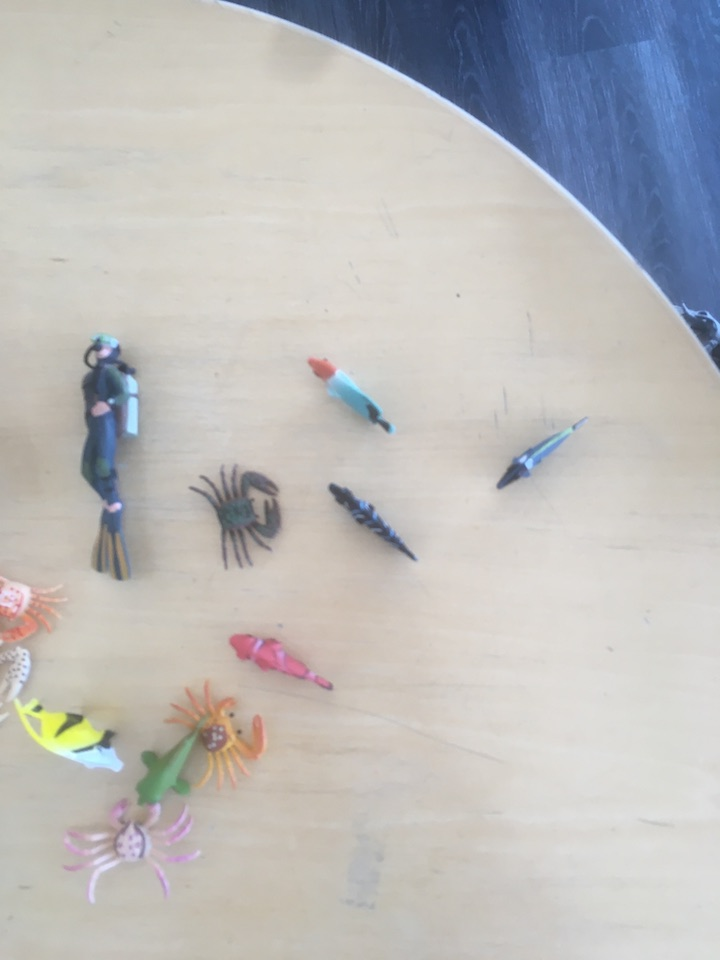crab: (59, 794, 205, 905), (158, 674, 271, 795), (184, 459, 286, 571), (1, 571, 72, 649), (1, 636, 36, 729)
danger: (9, 690, 130, 782)
diver: (71, 326, 149, 584)
fish: (322, 479, 428, 568), (130, 708, 217, 812), (490, 411, 593, 495), (302, 350, 397, 440), (222, 629, 341, 699)
